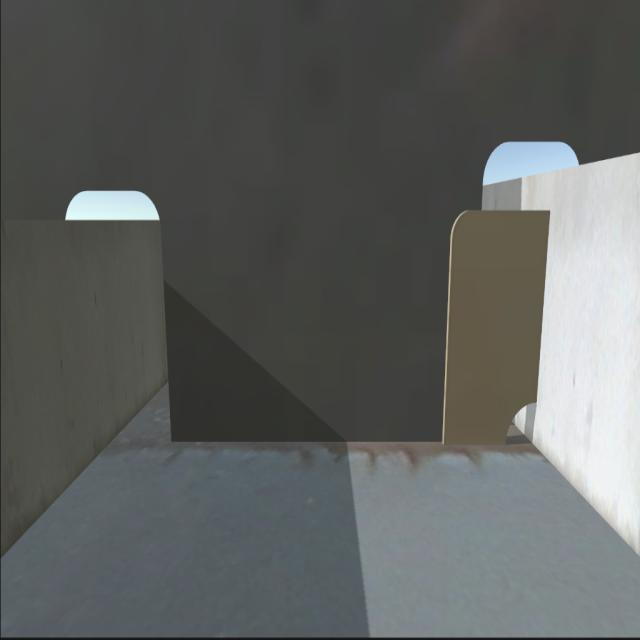fillet_hole: (497, 394, 538, 450)
fillet_yong_jeop_jang: (168, 428, 505, 451)
longi_yong_jeop_jang: (533, 208, 545, 407)
plate_CP05: (448, 206, 540, 439)
